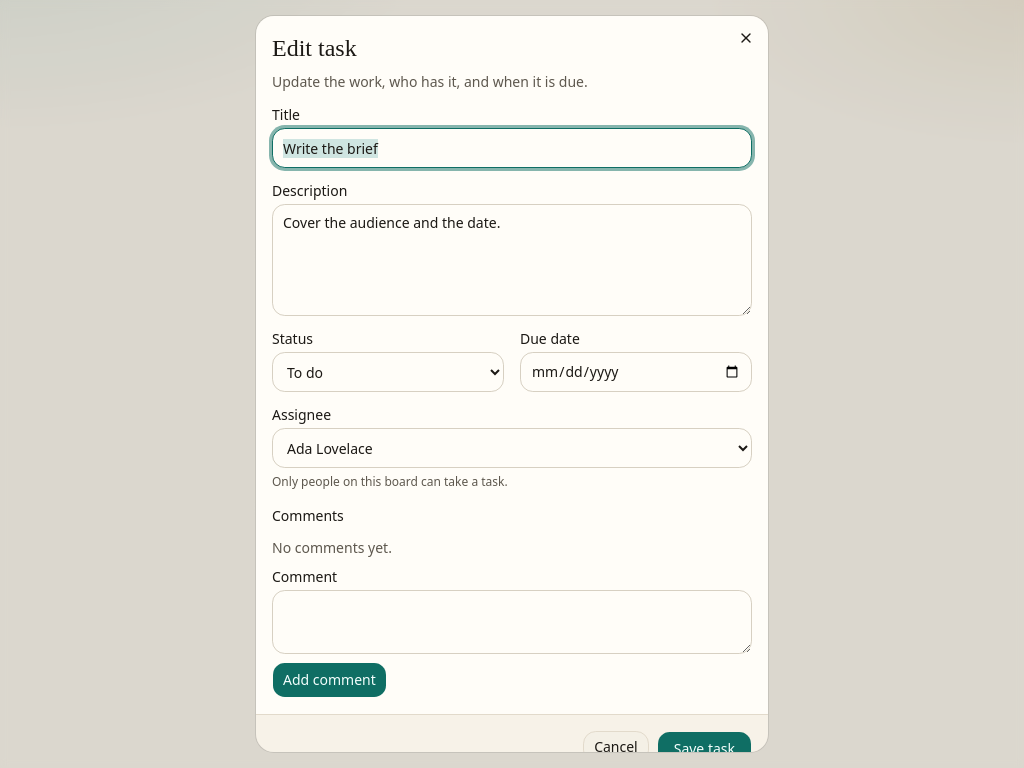
Scenario: TaskDialog › adds a comment without saving the task
Replace the text in the field labelled "Title" with "Write the brief today" at (512, 148), box x1=272 y1=128 x2=752 y2=168
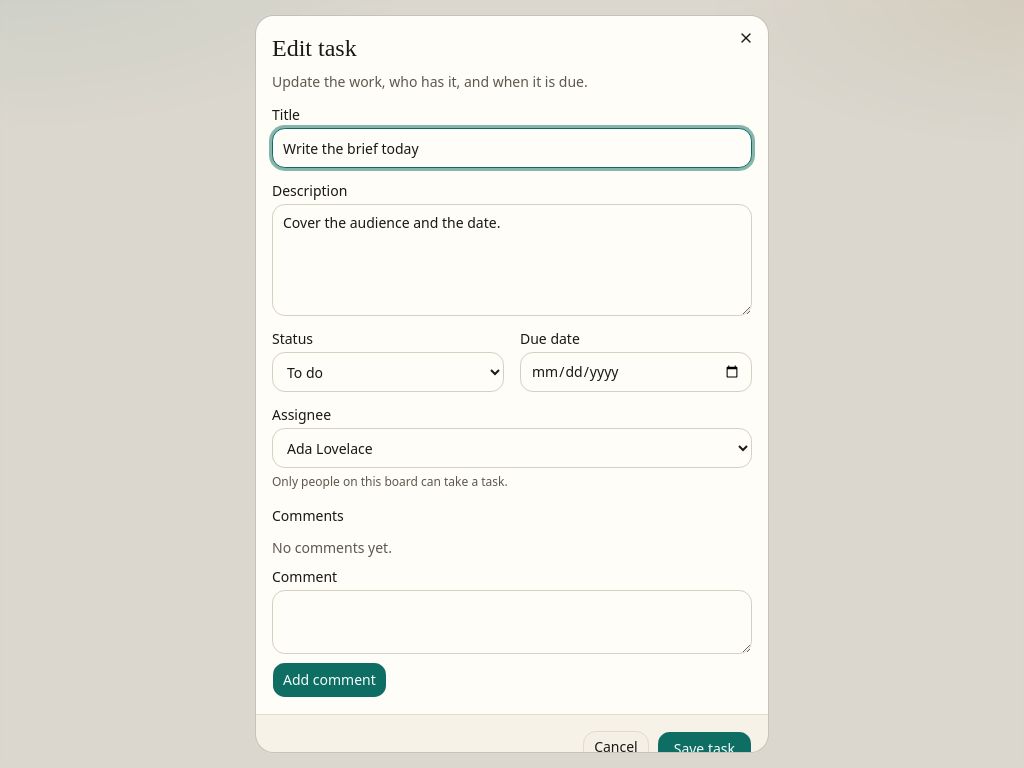
Type "Ship the notes" into the text box labelled "Comment" at (512, 622), box x1=272 y1=590 x2=752 y2=654
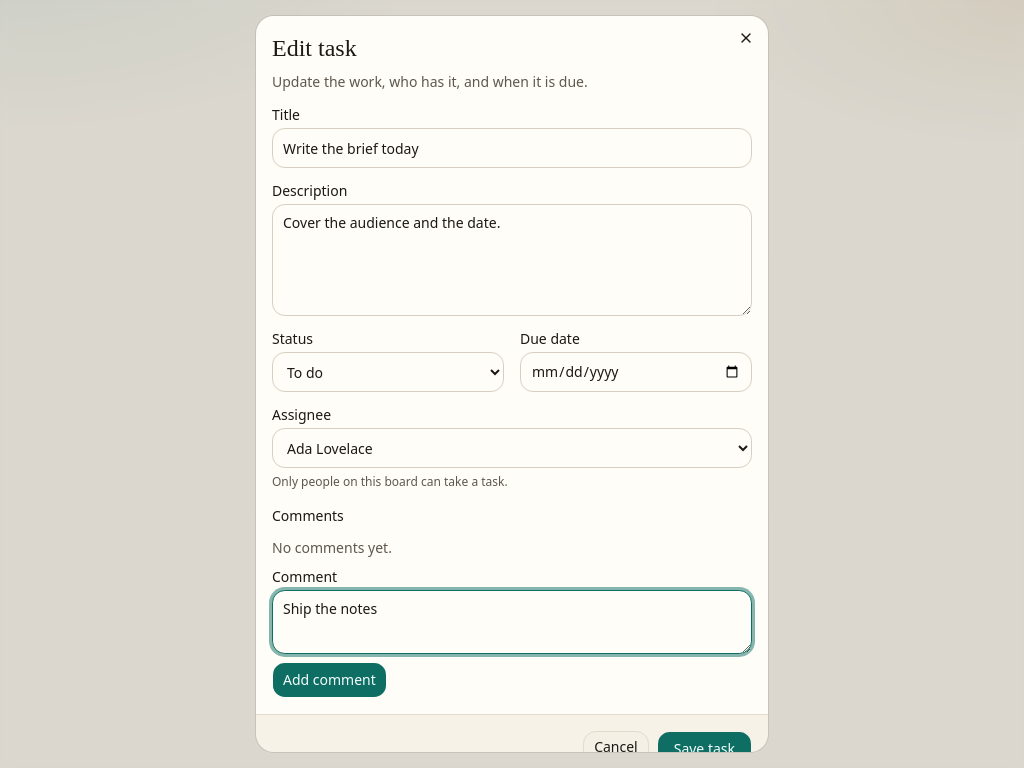
Click the button "Add comment" at (329, 680), box x1=272 y1=662 x2=387 y2=698
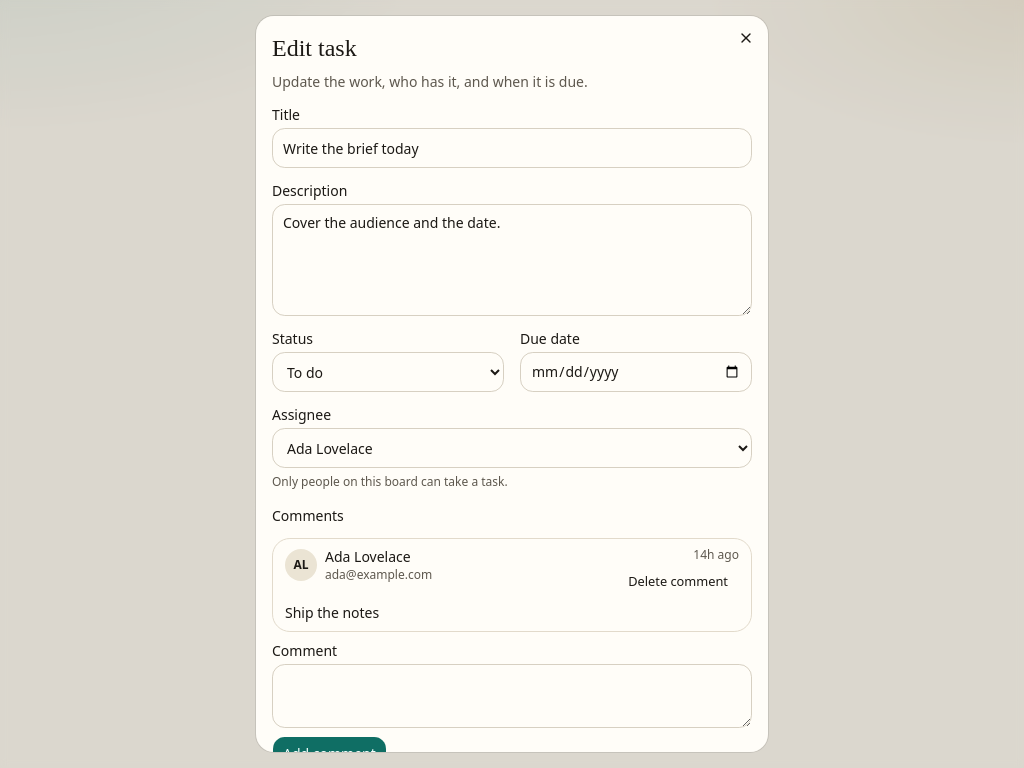
expect the heading "Edit task" is shown: met, box x1=272 y1=35 x2=357 y2=61
expect the text "Ship the notes" is shown: met, box x1=285 y1=603 x2=379 y2=622
